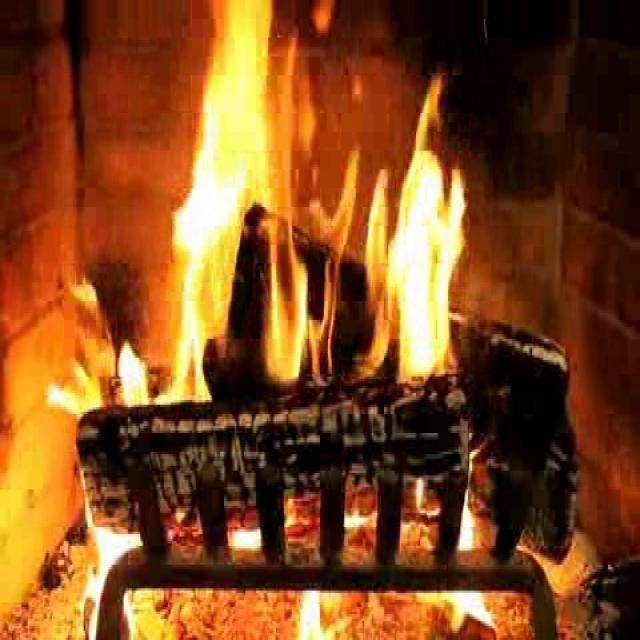Fire: (170, 21, 460, 390)
